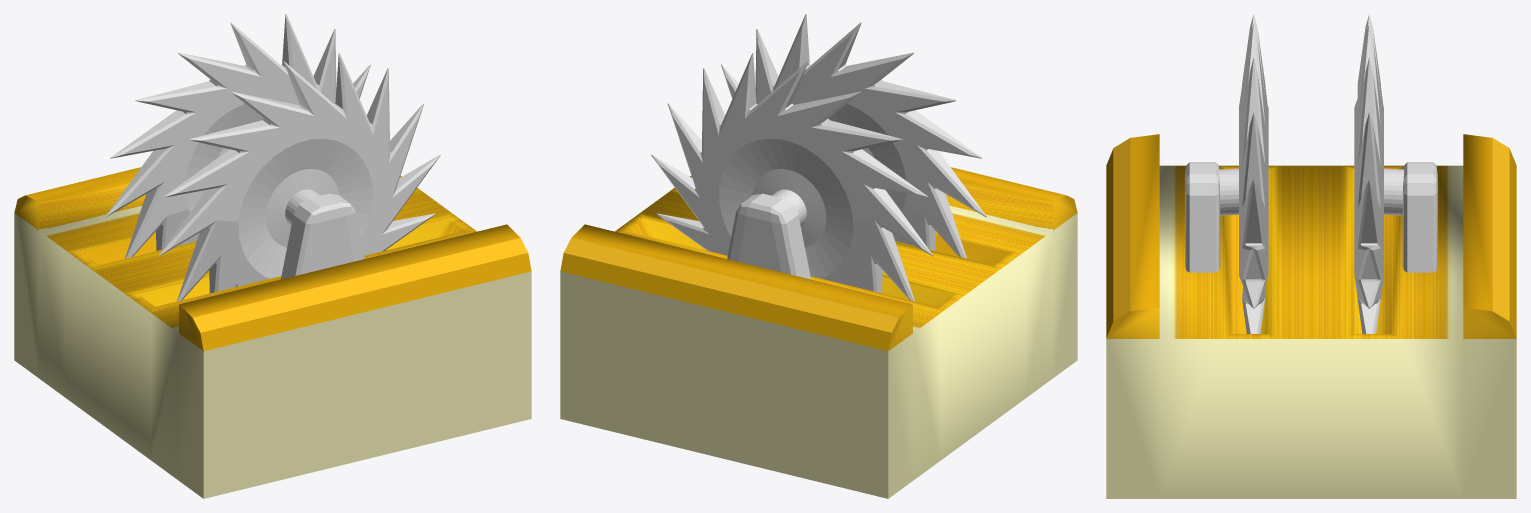
3 renders of one model, left to right at view 1: azimuth 30°, elevation 25°; view 2: azimuth 150°, elevation 25°; view 3: azimuth 270°, elevation 25°, orthographic. The views are drawn at different scales.
Visible parts, largest first — view 1: Base, Circle.001, Cube; view 2: Base, Circle.001, Cube; view 3: Base, Circle.001, Cube.
Boxes of the visible parts, x1,y1,x2,y2 form: Base: [14, 167, 531, 498]; Circle.001: [105, 14, 440, 301]; Cube: [281, 193, 364, 279]; Base: [560, 167, 1077, 498]; Circle.001: [651, 14, 986, 301]; Cube: [727, 193, 810, 279]; Base: [1106, 134, 1516, 498]; Circle.001: [1218, 14, 1404, 333]; Cube: [1185, 162, 1437, 272].
Bounding box in the file's own units: 100 × 102 × 100.
